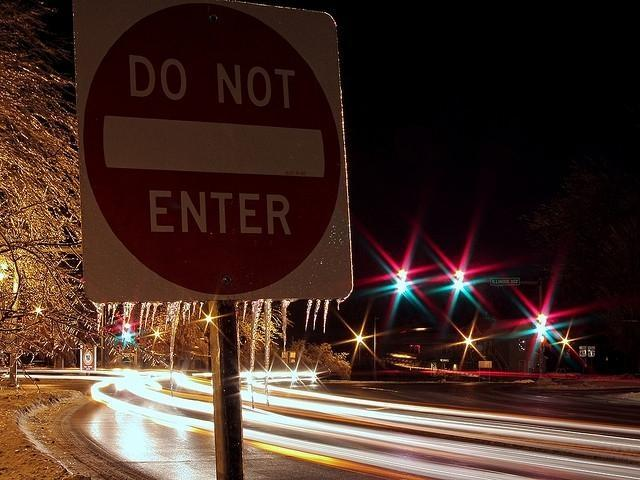car: (290, 364, 318, 386)
